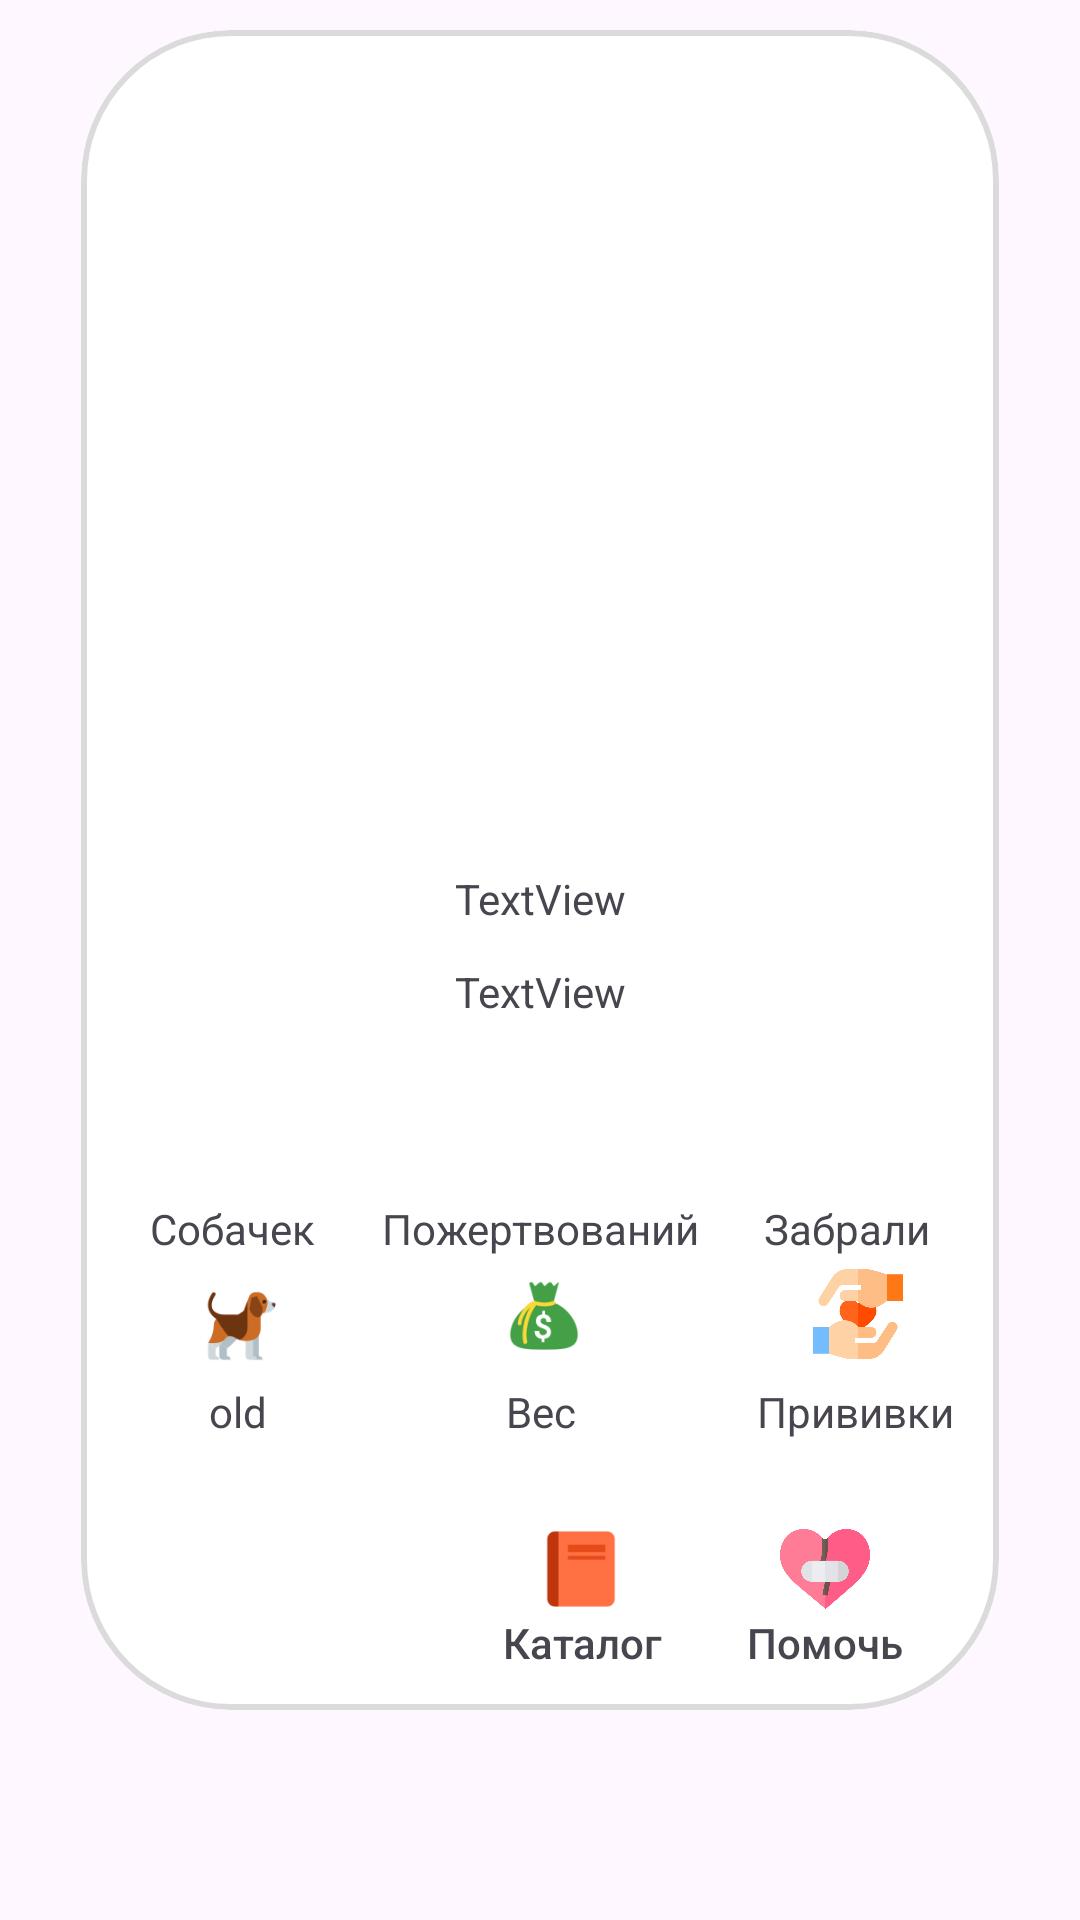

Point at icon controls on the screen. Image size 1080*1920, points as [x,y].
dog for: [241,1326]
dollars: [544,1316]
